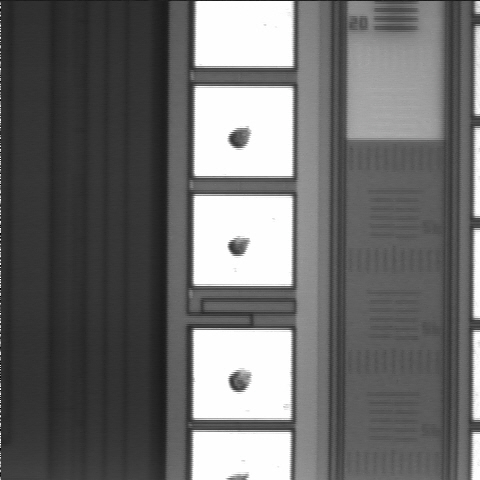pad: (194, 86, 293, 176), (194, 196, 292, 286), (193, 330, 291, 420)
